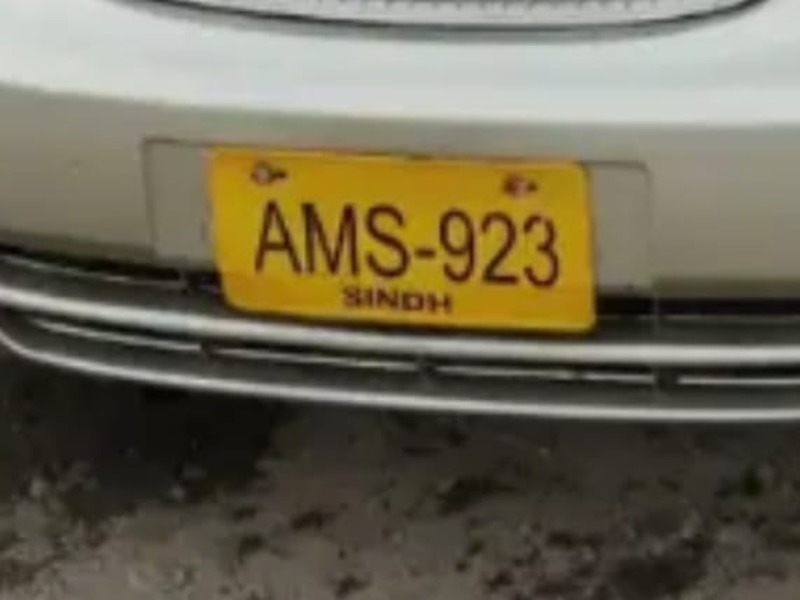License Plate: (205, 142, 601, 334)
